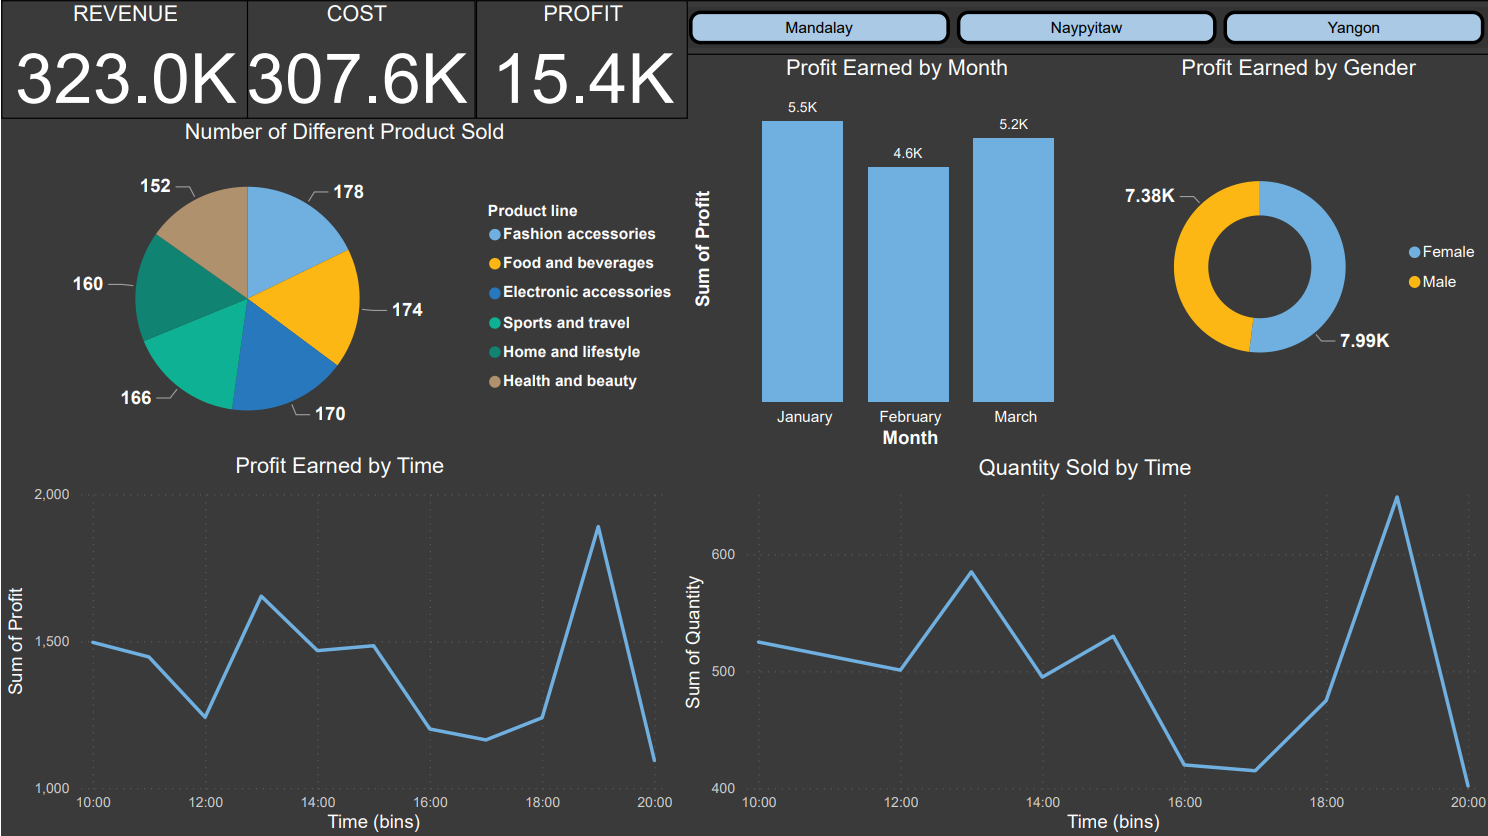

Layout of this report page (visuals, bound fields, positions):
{"tool":"powerbi","page":{"name":"Page 1","canvas":[1280,720],"ordinal":0},"visuals":[{"type":"ChicletSlicer1448559807354","fields":{"Category":["supermarket_sales - Sheet1.City"]},"box":[581.4,0,698.6,47.1],"z":0},{"type":"card","title":"COST","fields":{"Values":["Sum(supermarket_sales - Sheet1.Cost)"]},"box":[201.9,0,206.1,102.4],"z":1000},{"type":"card","title":"PROFIT","fields":{"Values":["Sum(supermarket_sales - Sheet1.Profit)"]},"box":[408.1,0,182.3,102.4],"z":2000},{"type":"card","title":"REVENUE","fields":{"Values":["Sum(supermarket_sales - Sheet1.Revenue)"]},"box":[0,0,211.7,102.4],"z":3000},{"type":"pieChart","title":"Number of Different Product Sold","fields":{"Category":["supermarket_sales - Sheet1.Product line"],"Y":["Count(supermarket_sales - Sheet1.Invoice ID)"]},"box":[0,102.5,590.1,287.3],"z":4000},{"type":"clusteredColumnChart","title":"Profit Earned by Month","fields":{"Category":["supermarket_sales - Sheet1.Date.Variation.Date Hierarchy.Month"],"Y":["Sum(supermarket_sales - Sheet1.Profit)"]},"box":[590.1,47.7,358.8,342.1],"z":5000},{"type":"lineChart","title":"Profit Earned by Time ","fields":{"Y":["Sum(supermarket_sales - Sheet1.Profit)"],"Category":["supermarket_sales - Sheet1.Time (bins)"]},"box":[0,389.8,581.7,330.2],"z":6000},{"type":"lineChart","title":"Quantity Sold by Time","fields":{"Category":["supermarket_sales - Sheet1.Time (bins)"],"Y":["Sum(supermarket_sales - Sheet1.Quantity)"]},"box":[581.7,391,698.5,329],"z":7000},{"type":"donutChart","title":"Profit Earned by Gender","fields":{"Y":["Sum(supermarket_sales - Sheet1.Profit)"],"Category":["supermarket_sales - Sheet1.Gender"]},"box":[949.3,47.7,330.9,342.2],"z":8000}]}

Visuals, with their boxes in screenshot pixels (x1, y1, x2, y2), scaled from the page's 1280x720 canvas onto the 1488x836 screenshot:
ChicletSlicer1448559807354 - supermarket_sales - Sheet1.City: (676, 0, 1487, 55)
"COST" card: (235, 0, 474, 119)
"PROFIT" card: (474, 0, 686, 119)
"REVENUE" card: (0, 0, 246, 119)
"Number of Different Product Sold" pieChart: (0, 119, 686, 453)
"Profit Earned by Month" clusteredColumnChart: (686, 55, 1103, 453)
"Profit Earned by Time " lineChart: (0, 453, 676, 835)
"Quantity Sold by Time" lineChart: (676, 454, 1487, 835)
"Profit Earned by Gender" donutChart: (1104, 55, 1487, 453)
